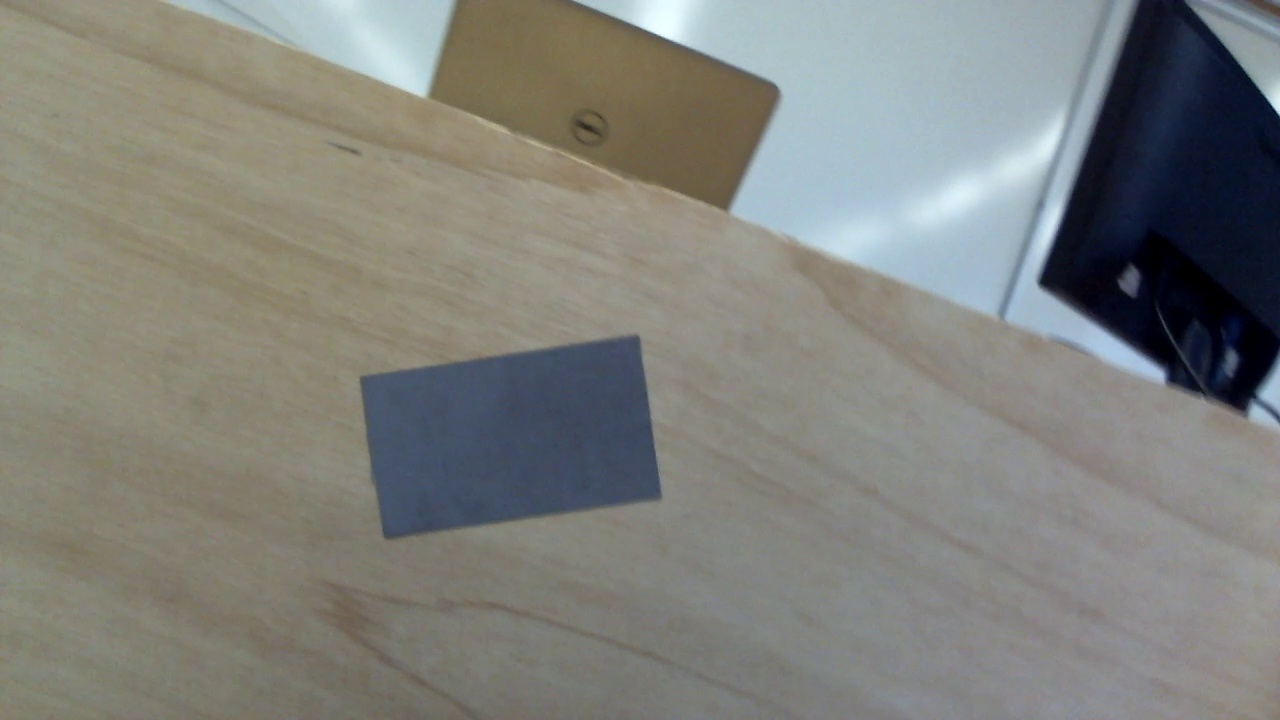Tape: (360, 336, 667, 536)
